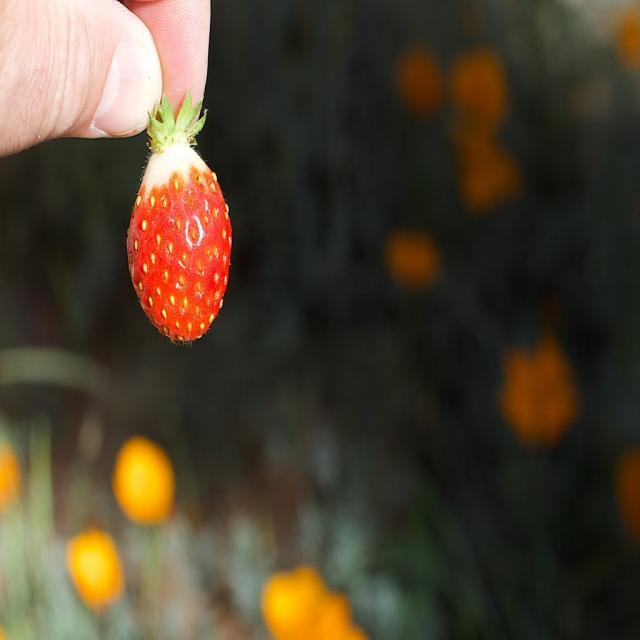Strawberry: (126, 97, 225, 335)
